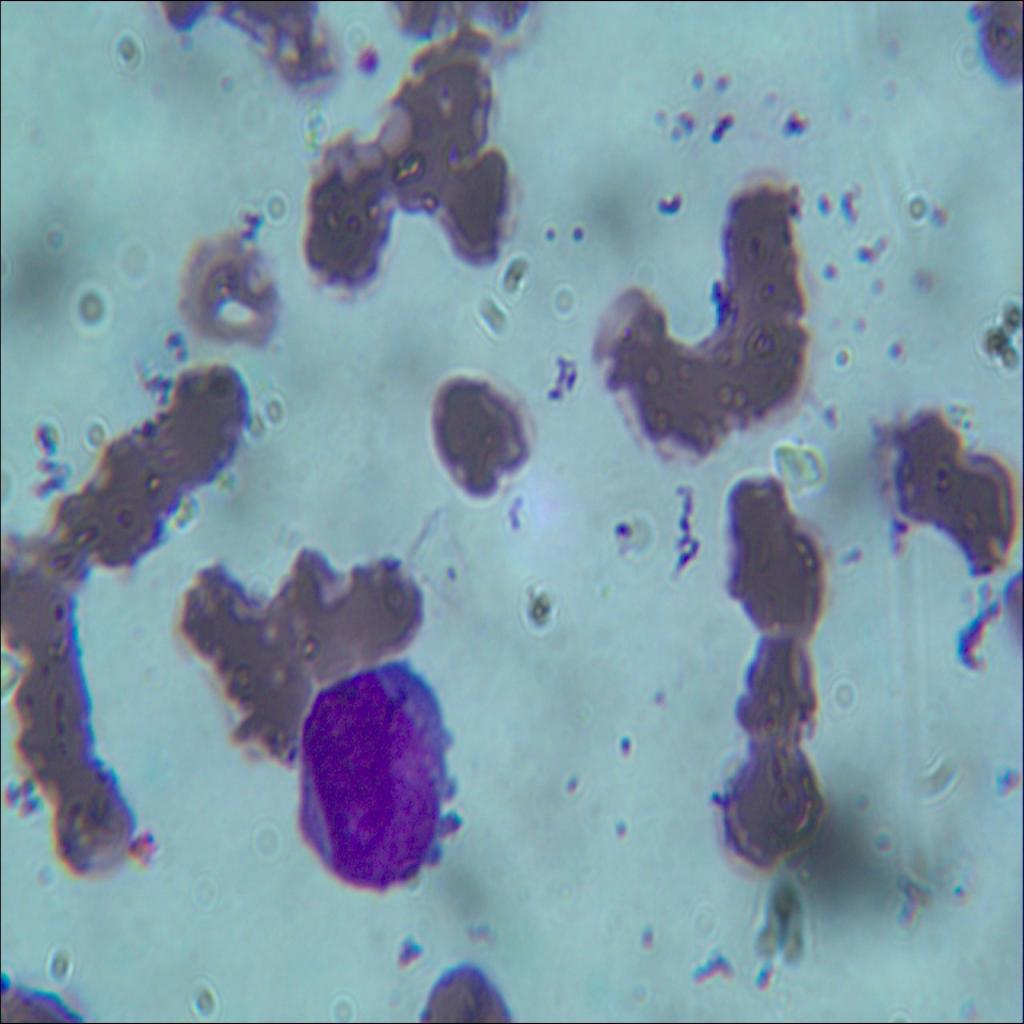Eritrosit: (706, 478, 826, 639), (286, 151, 390, 288), (718, 742, 829, 868), (426, 372, 536, 497), (148, 364, 258, 488), (68, 432, 175, 558), (29, 751, 133, 878), (696, 305, 809, 418), (726, 625, 824, 752), (173, 234, 281, 346), (714, 191, 808, 319), (601, 289, 688, 417), (4, 650, 96, 764), (931, 461, 1023, 574), (375, 86, 454, 216), (3, 526, 82, 651), (879, 401, 961, 511), (181, 577, 273, 675), (654, 352, 738, 458), (408, 44, 490, 151), (234, 642, 315, 748), (268, 579, 358, 672), (346, 561, 428, 655), (436, 152, 508, 258)
Limfoblast: (289, 658, 458, 891)
Platelet: (924, 191, 959, 241), (604, 511, 634, 548), (910, 264, 942, 296), (353, 42, 378, 82), (836, 186, 862, 224), (848, 307, 874, 345), (614, 722, 638, 762), (683, 65, 713, 97), (610, 812, 638, 845), (830, 338, 856, 372), (558, 768, 586, 799), (809, 189, 833, 225), (633, 914, 655, 951), (866, 272, 890, 305), (890, 509, 914, 542), (883, 338, 908, 368), (564, 218, 586, 250), (706, 71, 732, 98), (439, 555, 464, 582), (682, 106, 703, 138), (646, 685, 670, 712), (536, 218, 556, 248), (649, 99, 669, 129), (819, 257, 838, 288), (670, 121, 684, 145), (855, 241, 868, 265)
